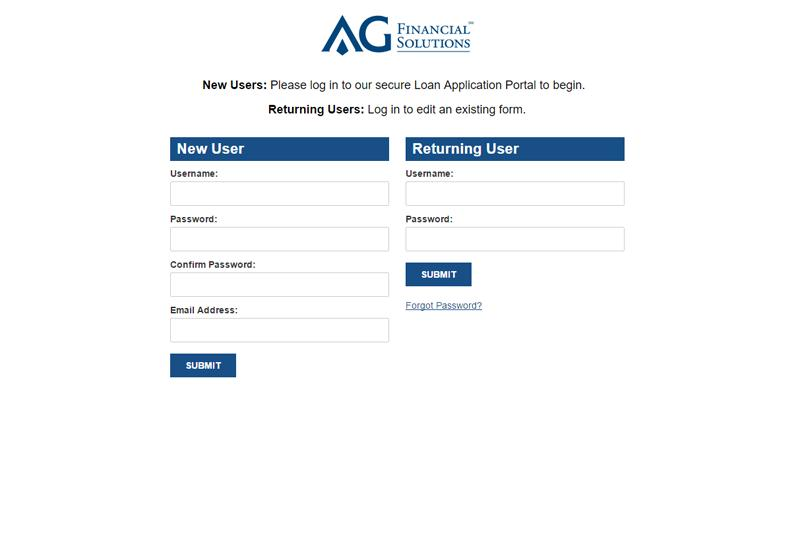button: (397, 262, 483, 295)
textbox: (169, 268, 399, 301)
